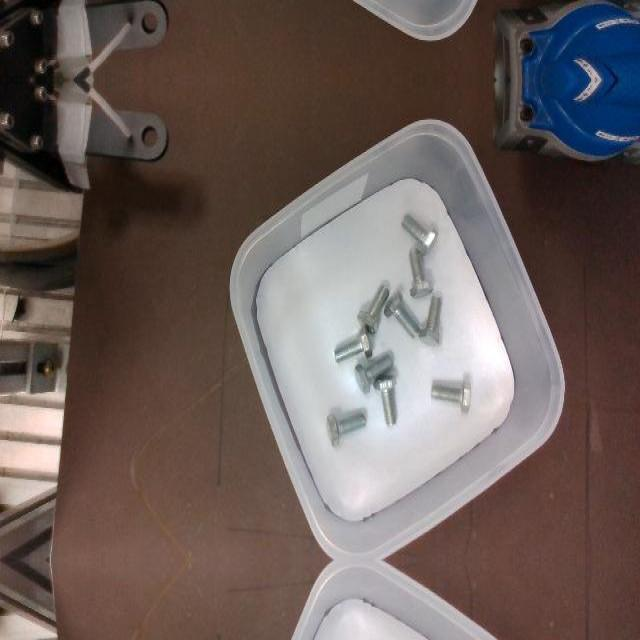screw: (383, 291, 419, 339), (400, 213, 438, 257), (357, 285, 389, 335), (354, 354, 393, 394), (333, 325, 371, 363), (430, 379, 470, 413), (326, 412, 365, 446), (418, 295, 443, 345), (409, 248, 434, 298), (372, 374, 396, 426)
